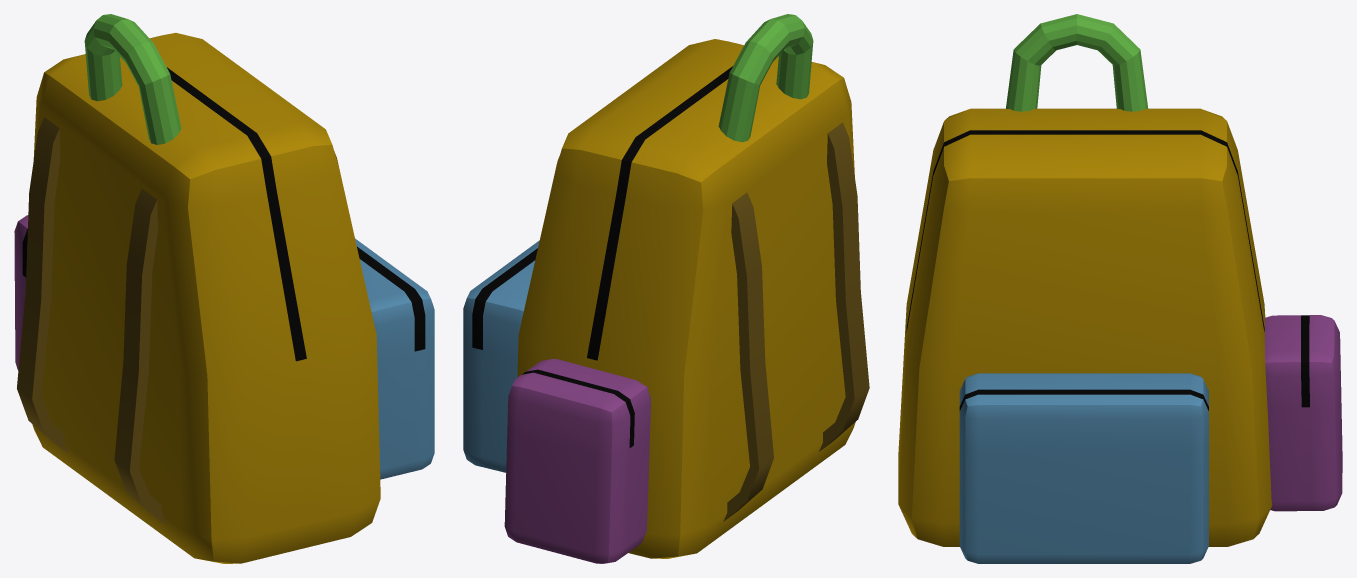
File: mochila.fbx
The picture shows the model from 3 angles, left to right: view 1: azimuth 30°, elevation 25°; view 2: azimuth 150°, elevation 25°; view 3: azimuth 270°, elevation 25°; orthographic projection. The views are drawn at different scales.
Visible parts, largest first — view 1: pCube6; view 2: pCube6; view 3: pCube6.
Part boxes in pixels (x1,y1,x2,y2): pCube6: [14, 14, 434, 563]; pCube6: [463, 14, 869, 563]; pCube6: [898, 14, 1342, 563].
Size of the model in its own units: 30.42 by 48.18 by 41.54.
